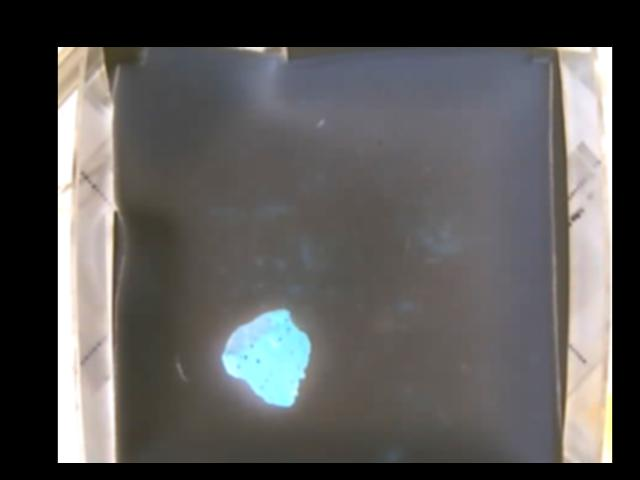Brisk: (223, 308, 307, 404)
